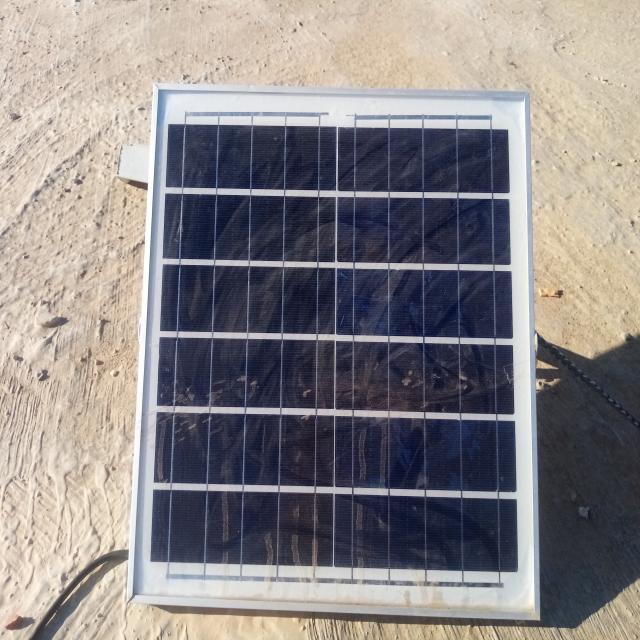faulty: (128, 88, 538, 616)
